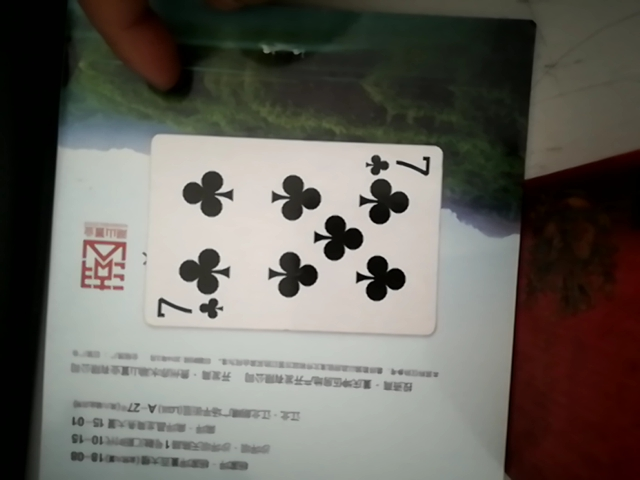mh 7: (130, 135, 444, 336)
